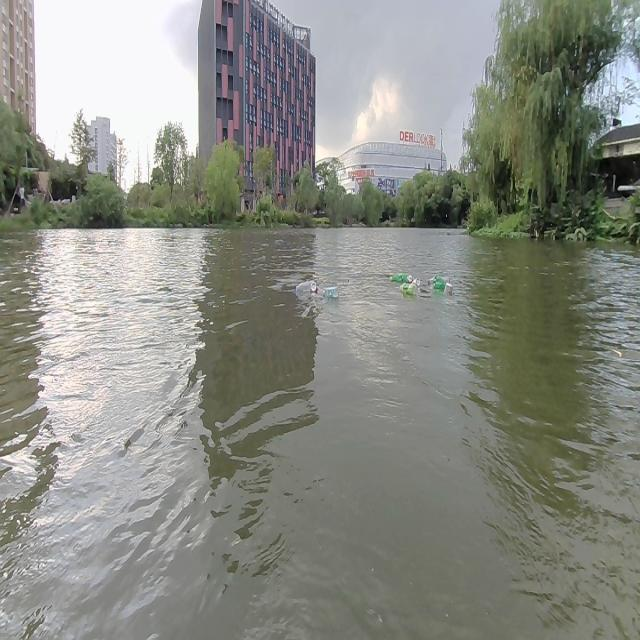bottle: (294, 280, 312, 294), (429, 274, 451, 284), (430, 282, 448, 294), (400, 282, 416, 294), (324, 286, 338, 296), (391, 272, 403, 283), (414, 274, 422, 289), (310, 282, 317, 295), (445, 281, 451, 296), (404, 273, 412, 281)
